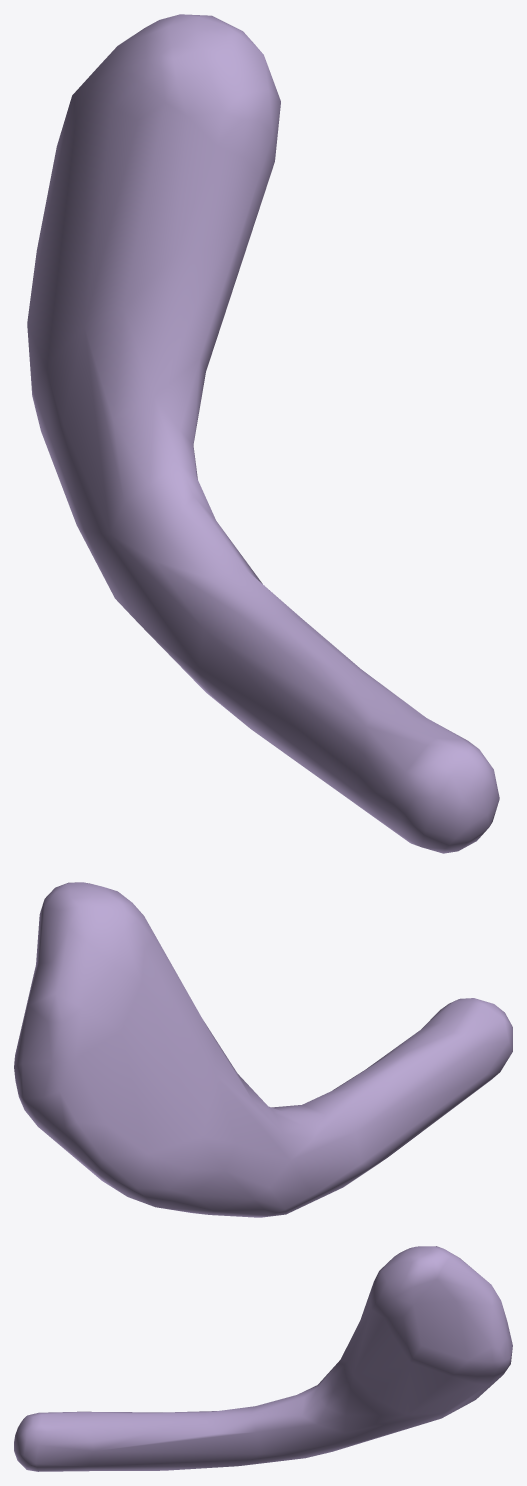
3 renders of one model, top to bottom at view 1: azimuth 30°, elevation 25°; view 2: azimuth 150°, elevation 25°; view 3: azimuth 270°, elevation 25°, orthographic. The views are drawn at different scales.
Parts seen in each view (by area): view 1: 右侧鼻泪管; view 2: 右侧鼻泪管; view 3: 右侧鼻泪管.
Boxes of the visible parts, x1=… form: 右侧鼻泪管: x1=27, y1=14, x2=499, y2=853; 右侧鼻泪管: x1=14, y1=882, x2=512, y2=1217; 右侧鼻泪管: x1=14, y1=1246, x2=512, y2=1471.
Bounding box in the file's own units: 0.00881 × 0.0171 × 0.0303.
